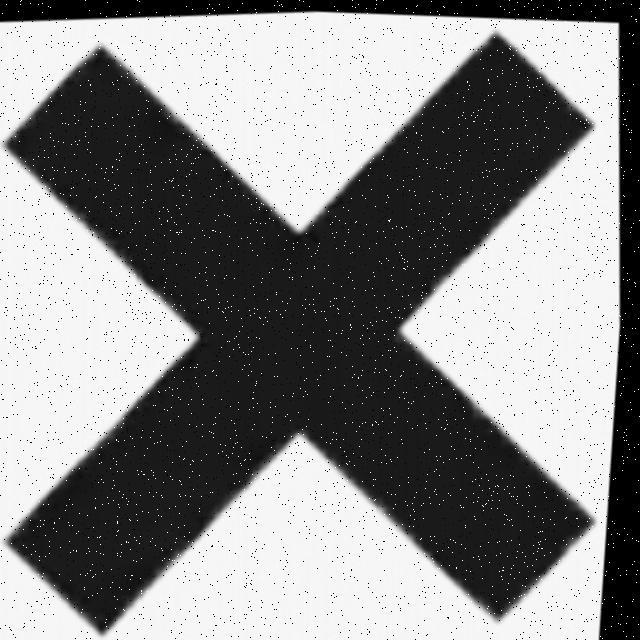cross: (0, 28, 640, 638)
